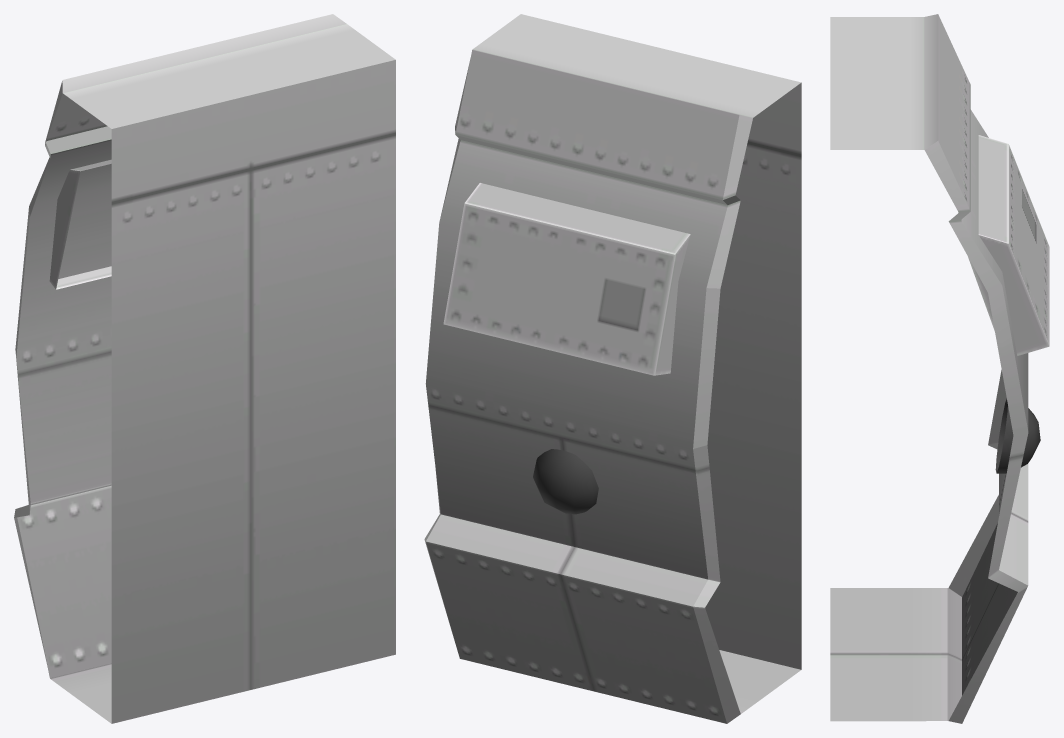
File: Space_Wall_Straight 25.fbx
3 renders of one model, left to right at view 1: azimuth 30°, elevation 25°; view 2: azimuth 150°, elevation 25°; view 3: azimuth 270°, elevation 25°, orthographic. The views are drawn at different scales.
Visible parts, largest first — view 1: Space_Wall_Straight 25; view 2: Space_Wall_Straight 25; view 3: Space_Wall_Straight 25.
Part boxes in pixels (x1,y1,x2,y2): Space_Wall_Straight 25: (14,14,395,723); Space_Wall_Straight 25: (424,14,801,723); Space_Wall_Straight 25: (830,14,1049,723).
Bounding box in the file's own units: 1.2 × 2.45 × 0.8343.
1 material, 1 textured.
